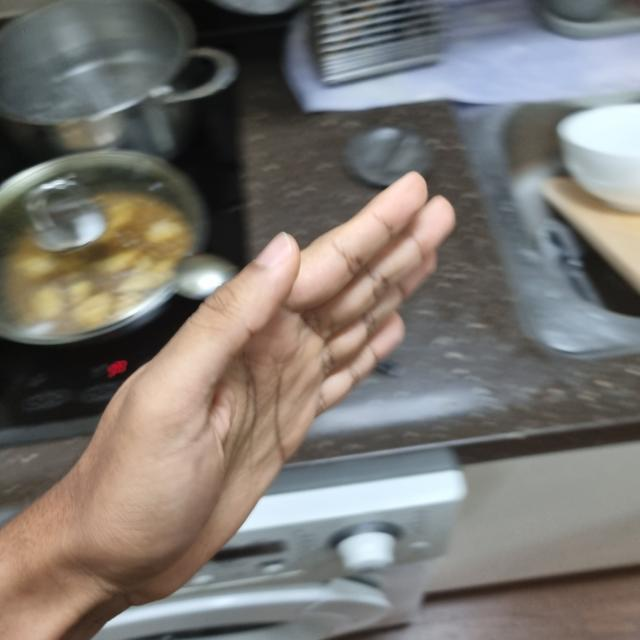Paper: (65, 182, 444, 600)
